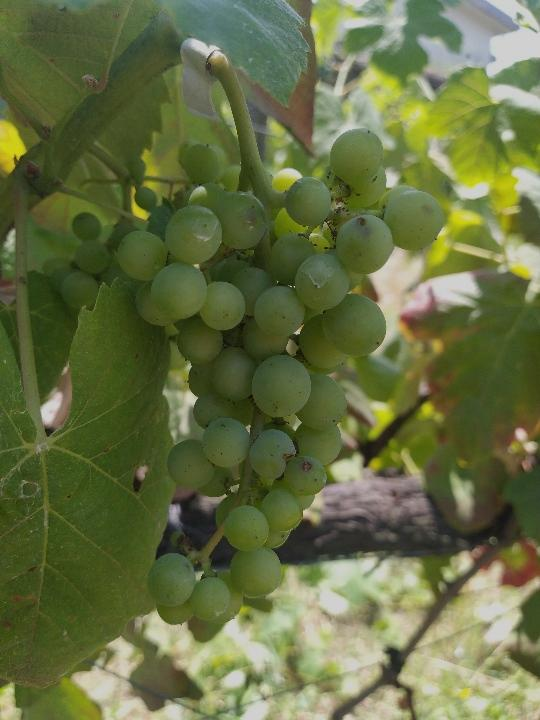grape: (113, 124, 451, 631)
